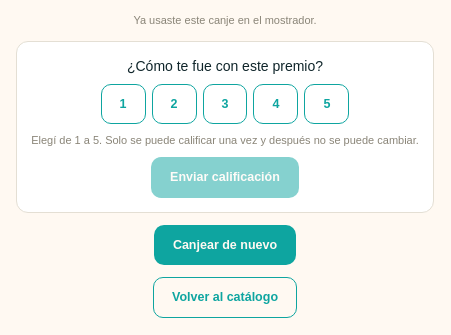
Test: RedeemPage rating › explains a UserReward.AlreadyRated conflict in its own words
Click the button named "5 de 5": point(327, 104) x1=304 y1=84 x2=349 y2=124
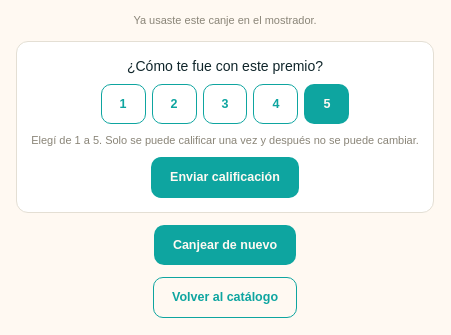
Click the button "Enviar calificación": point(225, 177) x1=151 y1=157 x2=299 y2=198
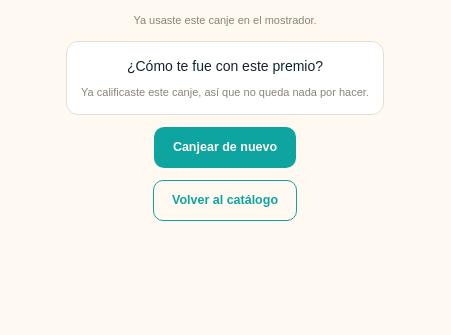
Expected: the text "Ya calificaste este canje, así que no queda nada por hacer." is shown, x1=81 y1=84 x2=369 y2=100
